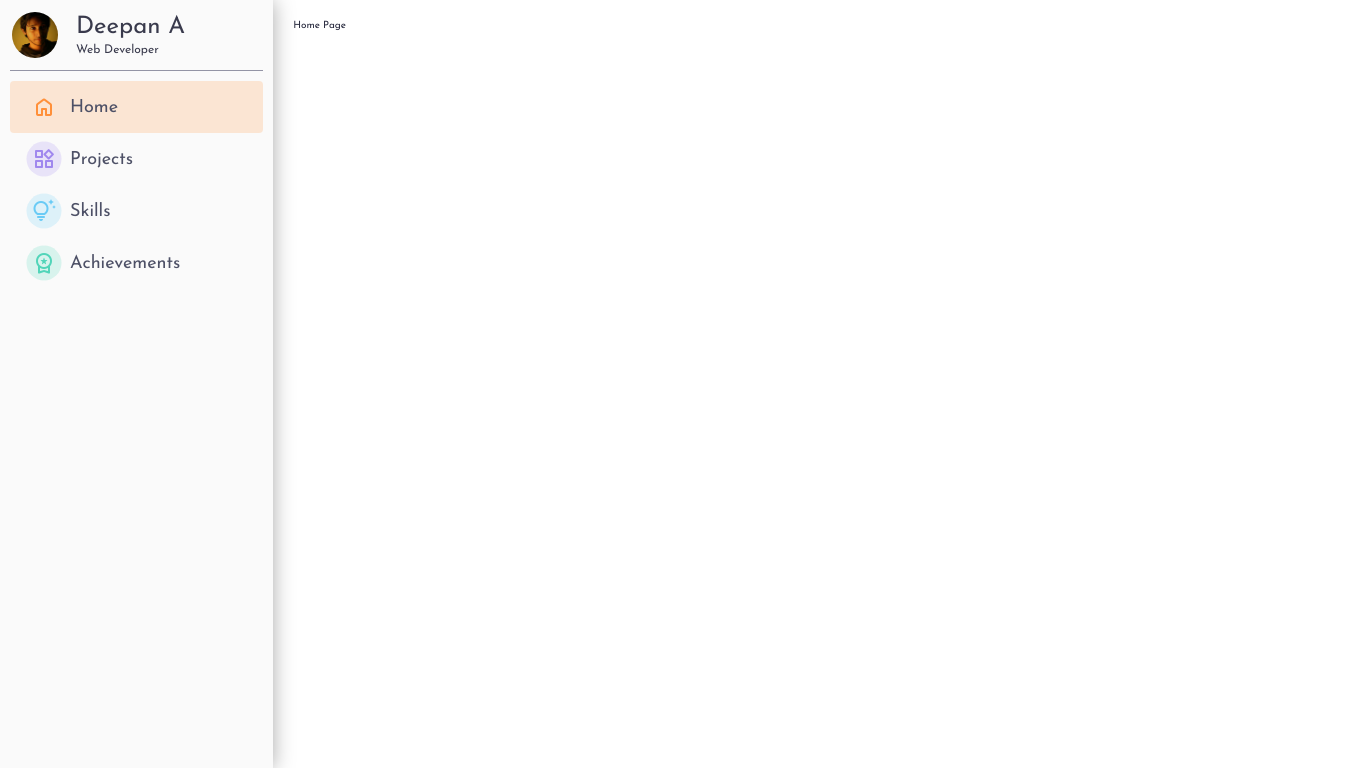
Scenario: App › should switch to different routes
Expected: the text "Home Page" is shown, [293,20,346,31]
# Switch to projects page
Click the text "Projects" at {"x": 102, "y": 159}, box [70,150,133,168]
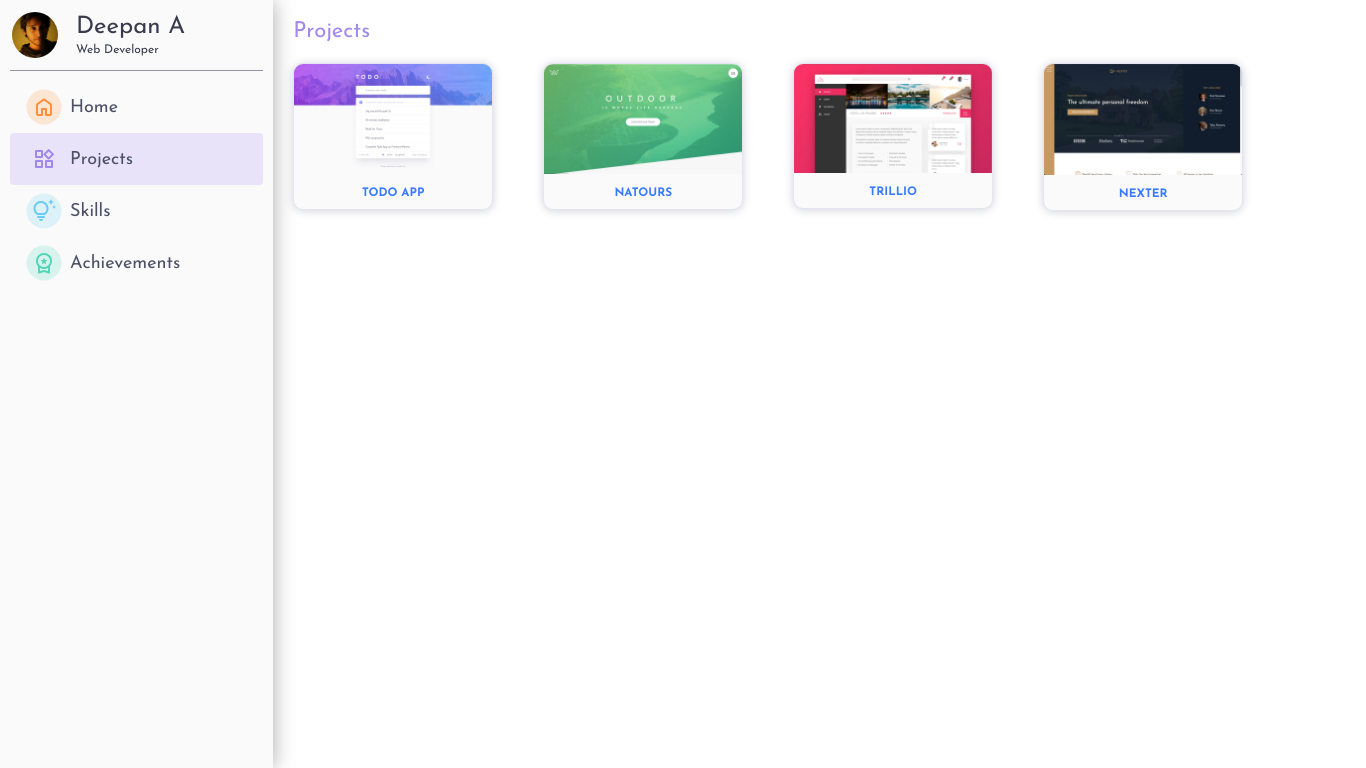
Now the heading "Todo App" is shown, box [362,187,424,199]
# Switch to skills page
Click the text "Skills" at {"x": 90, "y": 211}, box [70,202,110,220]
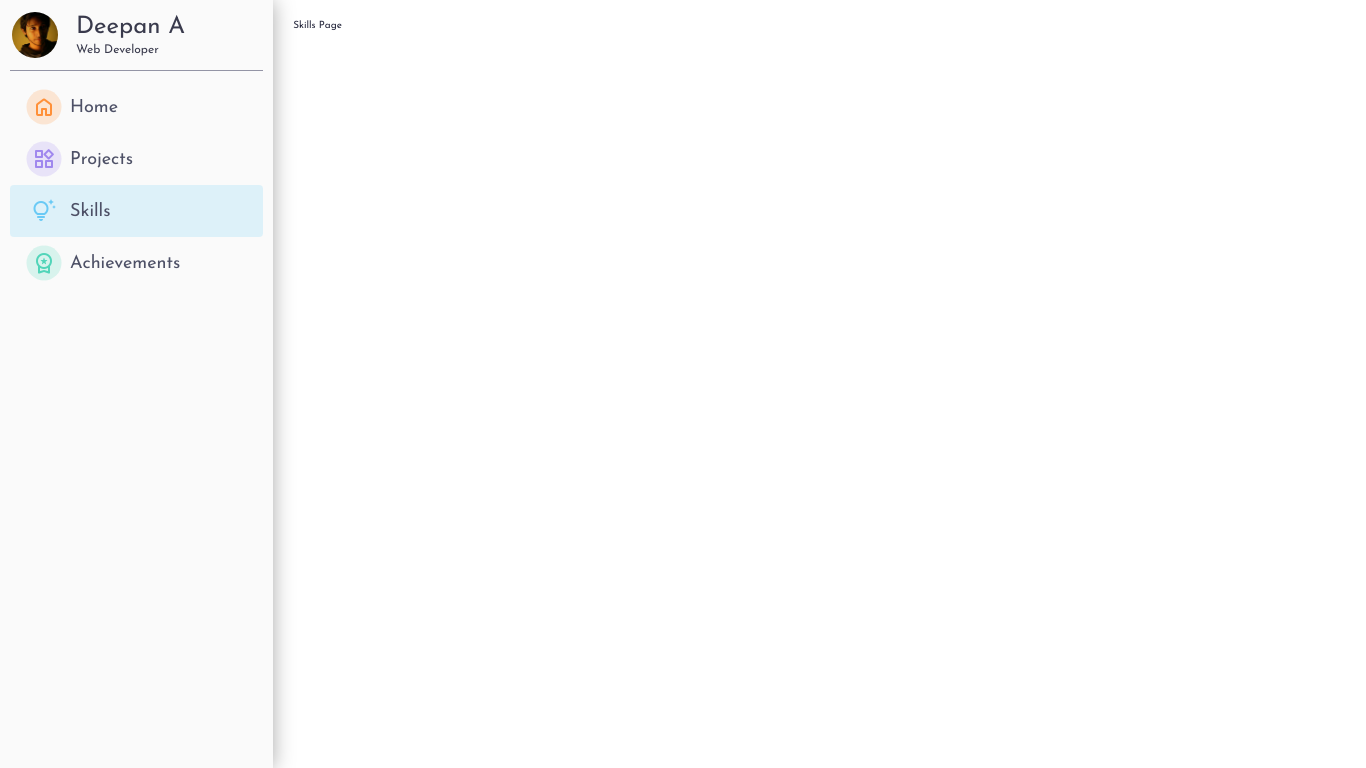
Now the text "Skills Page" is shown, box [293,20,342,31]
# Switch to achievements page
Click the text "Achievements" at {"x": 125, "y": 263}, box [70,254,180,272]
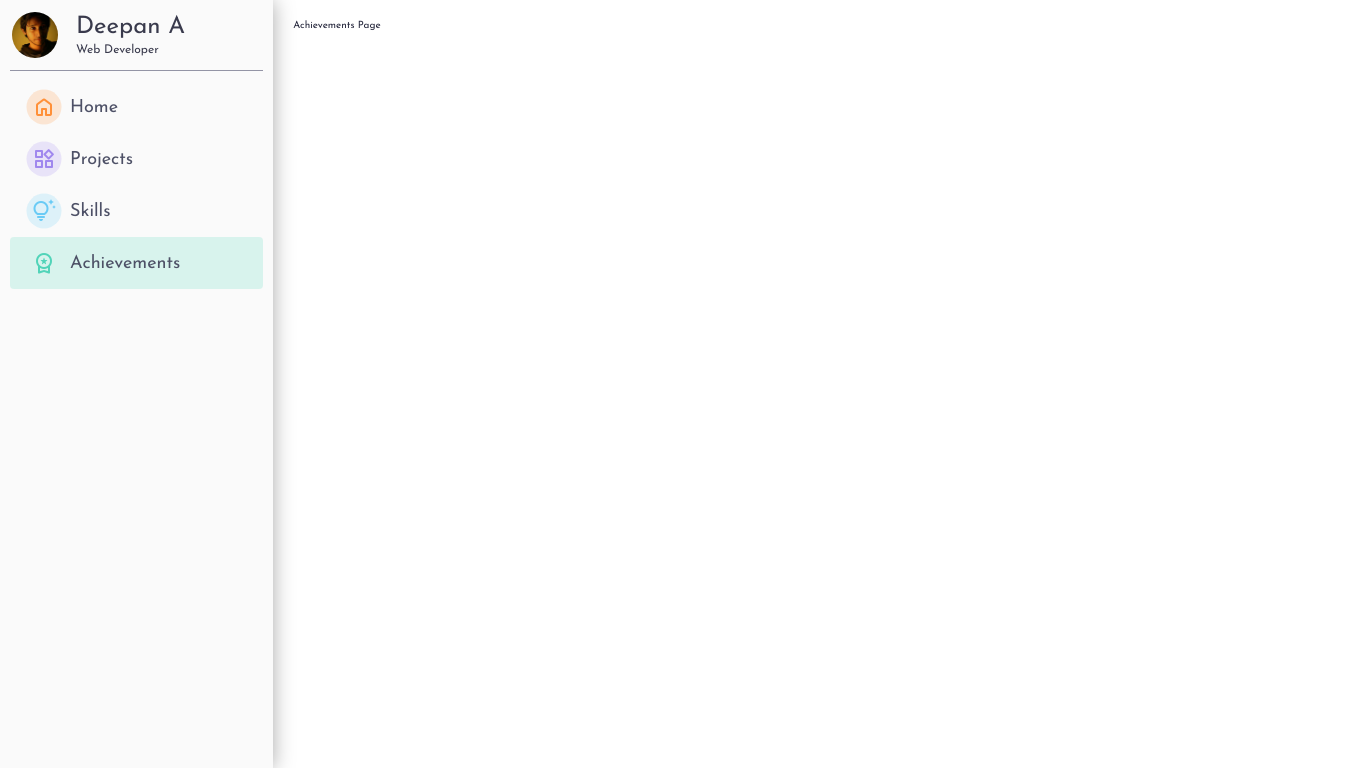
Now the text "Achievements Page" is shown, box [293,20,381,31]
# Switch to home page
Click the text "Home" at {"x": 94, "y": 107}, box [70,98,118,116]
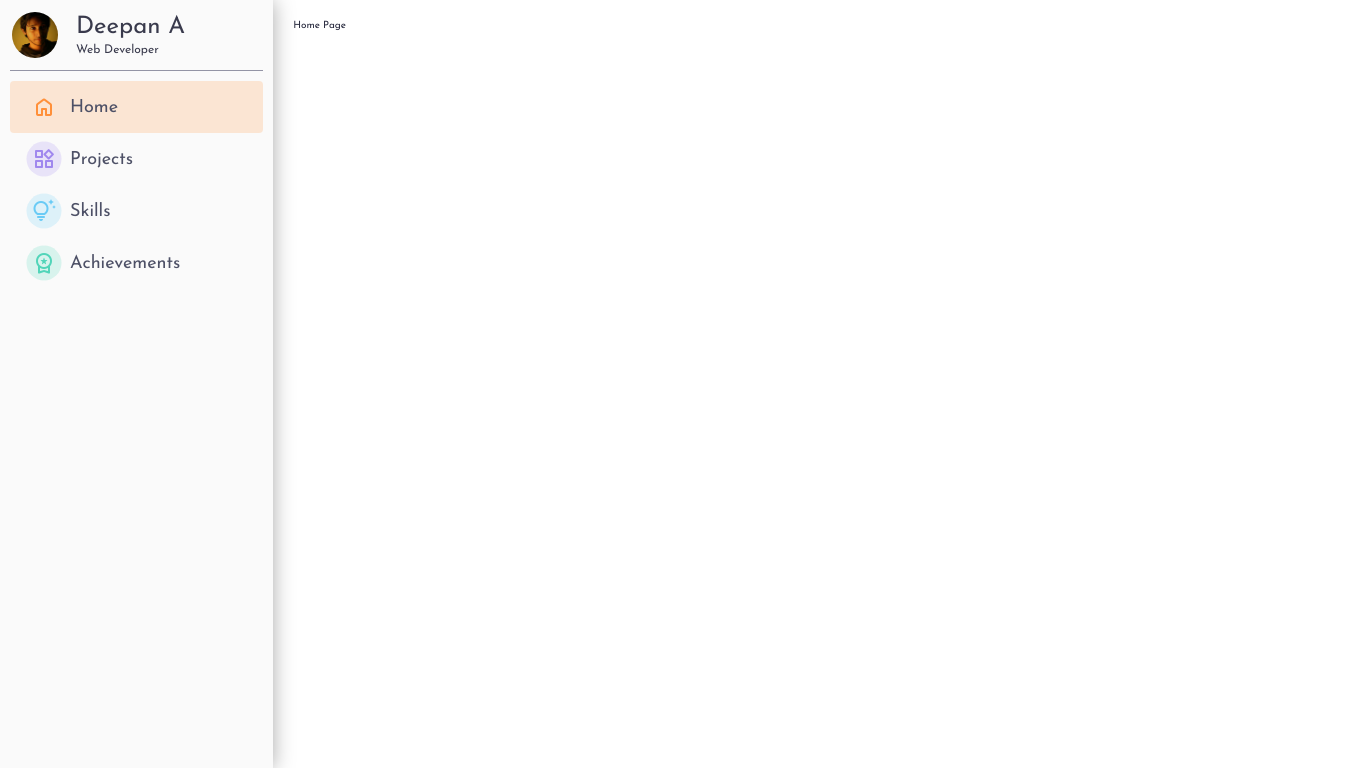
Now the text "Home Page" is shown, box [293,20,346,31]
